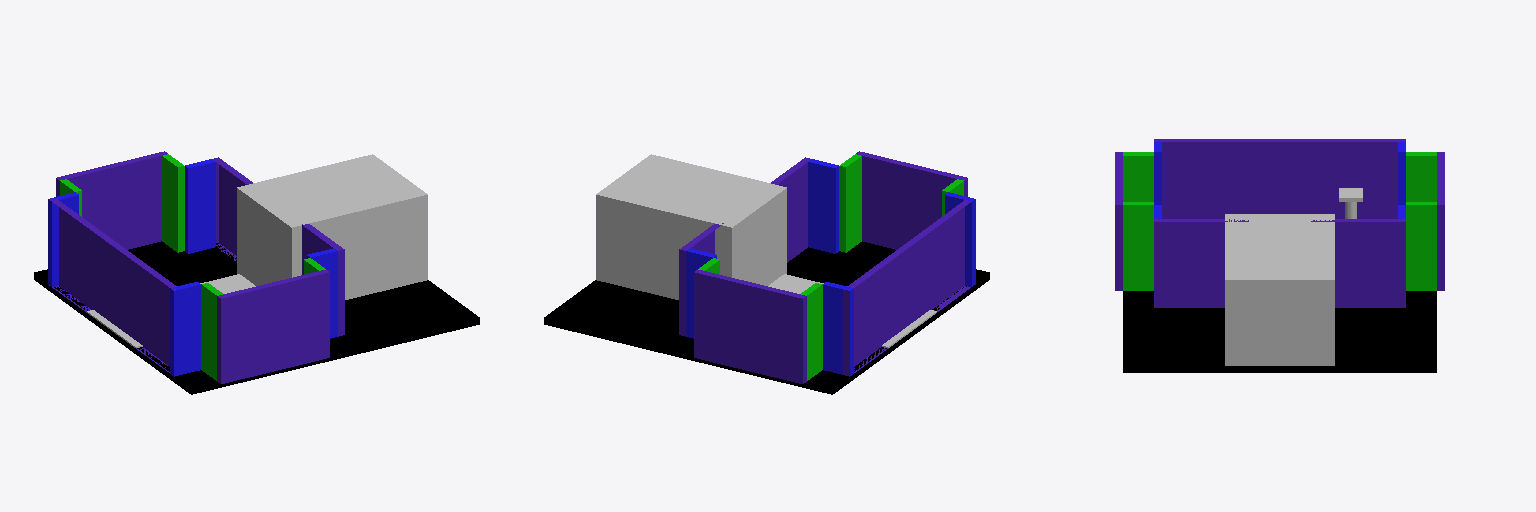
The model's file is attemptroom1.obj.
3 views of the same model, side by side, from view 1: azimuth 30°, elevation 25°; view 2: azimuth 150°, elevation 25°; view 3: azimuth 270°, elevation 25° (orthographic).
Parts seen in each view (by area): view 1: Cube, floor_Plane.013, leftwall_Plane.008, backwall_Plane, rightwall_Plane.003, sidesmall.001_Plane.005, sidesmall.006_Plane.011, sidesmall.005_Plane.004, frontwall_Plane.006, sidesmall.007_Plane.009, frontwall.001_Plane.007, sidesmall.002_Plane.001 (+2 smaller); view 2: Cube, floor_Plane.013, backwall_Plane, rightwall_Plane.003, leftwall_Plane.008, sidesmall_Plane.012, sidesmall.002_Plane.001, frontwall.001_Plane.007, sidesmall.004_Plane.010, sidesmall.003_Plane.002, sidesmall.006_Plane.011, frontwall_Plane.006 (+2 smaller); view 3: backwall_Plane, Cube, floor_Plane.013, frontwall_Plane.006, frontwall.001_Plane.007, sidesmall.004_Plane.010, sidesmall.005_Plane.004, sidesmall.007_Plane.009, sidesmall.003_Plane.002, leftwall_Plane.008, rightwall_Plane.003.
Boxes of the visible parts, box(x1,y1,x2,y2) form: Cube: box(237, 154, 427, 299); floor_Plane.013: box(34, 241, 479, 394); leftwall_Plane.008: box(217, 270, 329, 383); backwall_Plane: box(49, 198, 176, 372); rightwall_Plane.003: box(56, 151, 167, 249); sidesmall.001_Plane.005: box(185, 159, 215, 253); sidesmall.006_Plane.011: box(170, 282, 200, 376); sidesmall.005_Plane.004: box(162, 154, 184, 252); frontwall_Plane.006: box(213, 157, 252, 260); sidesmall.007_Plane.009: box(201, 283, 222, 380); frontwall.001_Plane.007: box(302, 224, 344, 336); sidesmall.002_Plane.001: box(48, 192, 78, 286); Cube: box(596, 154, 786, 299); floor_Plane.013: box(544, 241, 989, 394); backwall_Plane: box(843, 198, 973, 376); rightwall_Plane.003: box(694, 270, 806, 383); leftwall_Plane.008: box(856, 151, 967, 249); sidesmall_Plane.012: box(808, 159, 838, 253); sidesmall.002_Plane.001: box(823, 282, 853, 375); frontwall.001_Plane.007: box(771, 157, 810, 262); sidesmall.004_Plane.010: box(839, 154, 861, 252); sidesmall.003_Plane.002: box(801, 283, 822, 380); sidesmall.006_Plane.011: box(945, 192, 975, 286); frontwall_Plane.006: box(679, 223, 723, 336); backwall_Plane: box(1154, 139, 1405, 218); Cube: box(1225, 214, 1334, 365); floor_Plane.013: box(1123, 291, 1436, 372); frontwall_Plane.006: box(1311, 219, 1405, 307); frontwall.001_Plane.007: box(1154, 219, 1248, 307); sidesmall.004_Plane.010: box(1123, 202, 1153, 290); sidesmall.005_Plane.004: box(1406, 202, 1436, 290); sidesmall.007_Plane.009: box(1123, 152, 1153, 201); sidesmall.003_Plane.002: box(1406, 152, 1436, 201); leftwall_Plane.008: box(1115, 152, 1122, 290); rightwall_Plane.003: box(1437, 152, 1444, 290).
Size of the model in its own units: 21.27 by 6.5 by 21.